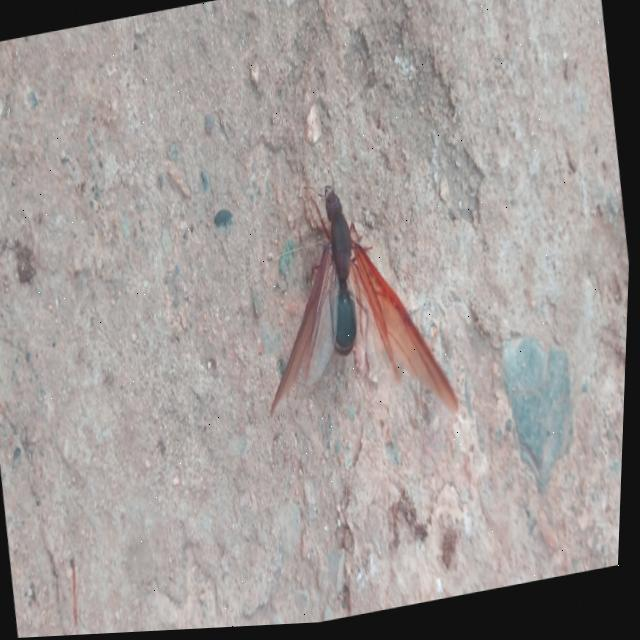Alive-Female-Alate: (238, 140, 471, 456)
